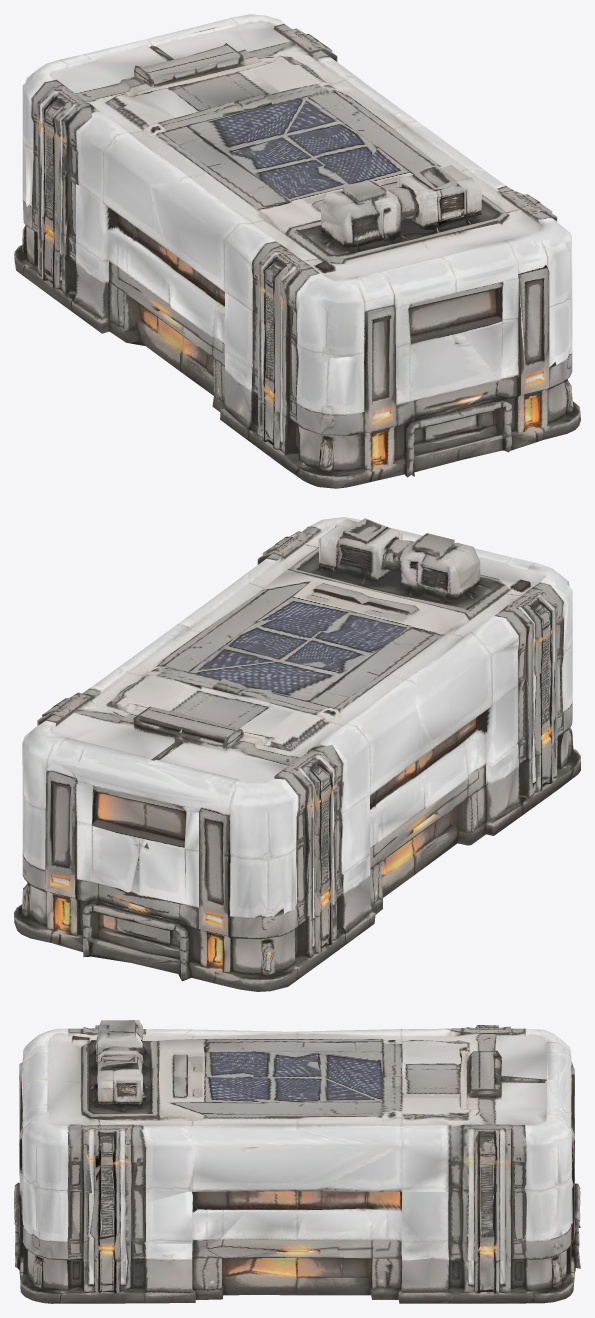
Rendered from adminWing.glb.
The picture shows the model from 3 angles, top to bottom: view 1: azimuth 30°, elevation 25°; view 2: azimuth 150°, elevation 25°; view 3: azimuth 270°, elevation 25°; orthographic projection. The views are drawn at different scales.
Parts seen in each view (by area): view 1: adminWing; view 2: adminWing; view 3: adminWing.
Boxes of the visible parts, bbox=[...] form: adminWing: bbox=[14, 14, 580, 488]; adminWing: bbox=[14, 517, 580, 991]; adminWing: bbox=[14, 1020, 580, 1303].
Size of the model in its own units: 17.68 by 14.53 by 36.
1 material, 1 textured.
